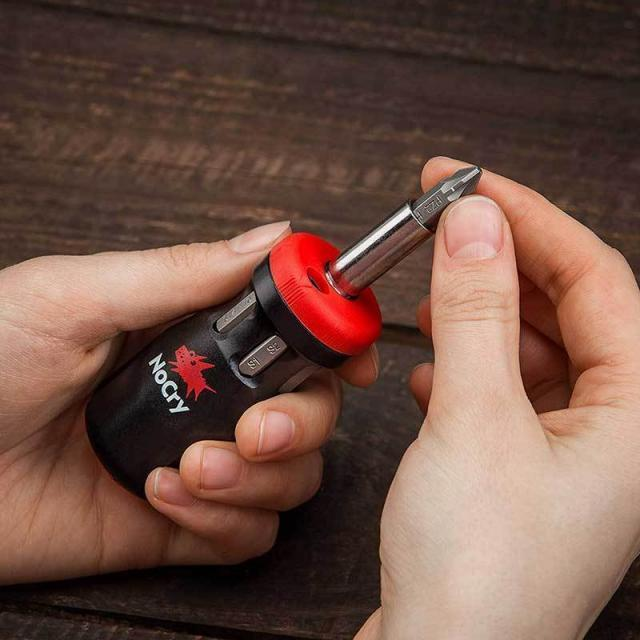screwdriver: (80, 160, 483, 492)
